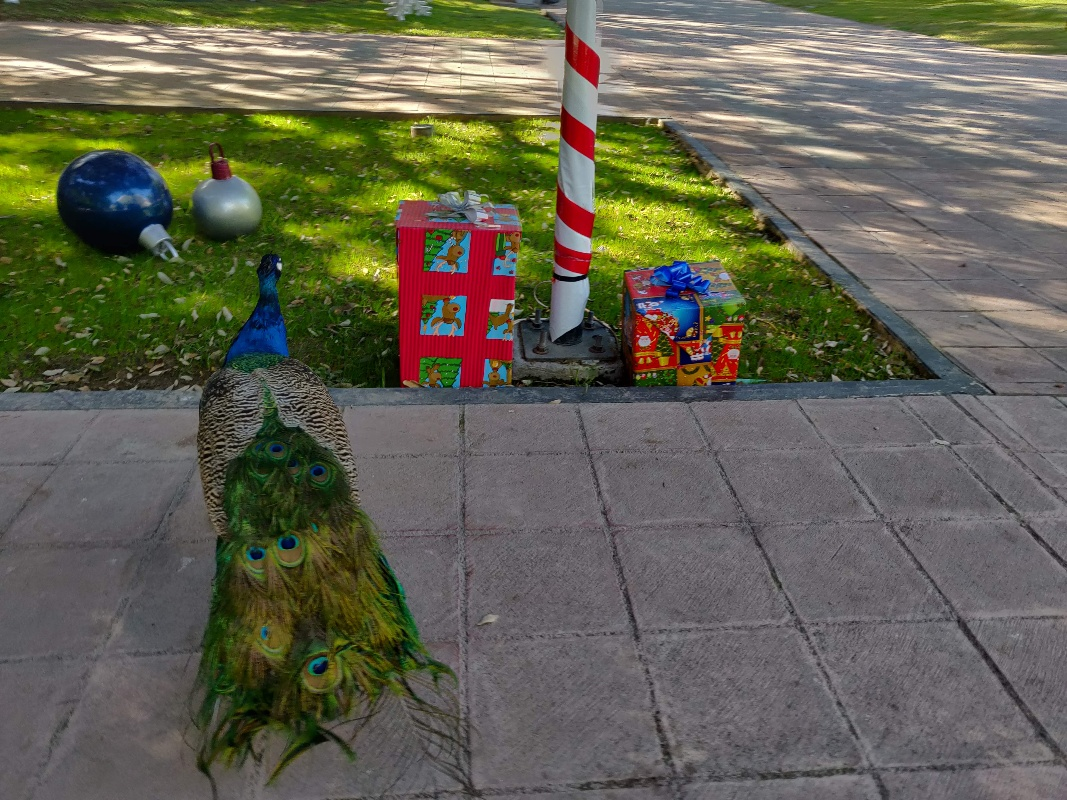pavoreal: (199, 253, 400, 738)
